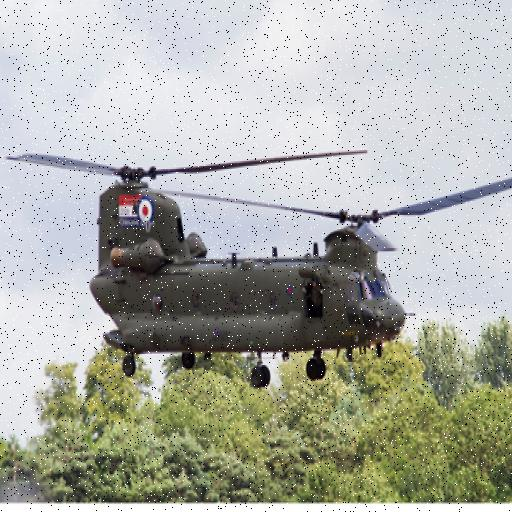helicopter: (10, 147, 512, 381)
